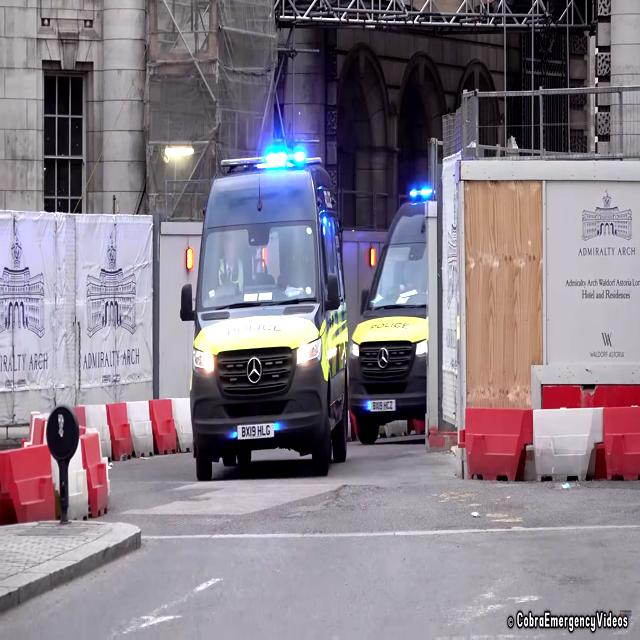emergency-vehicles: (186, 141, 354, 492), (356, 178, 446, 447)
